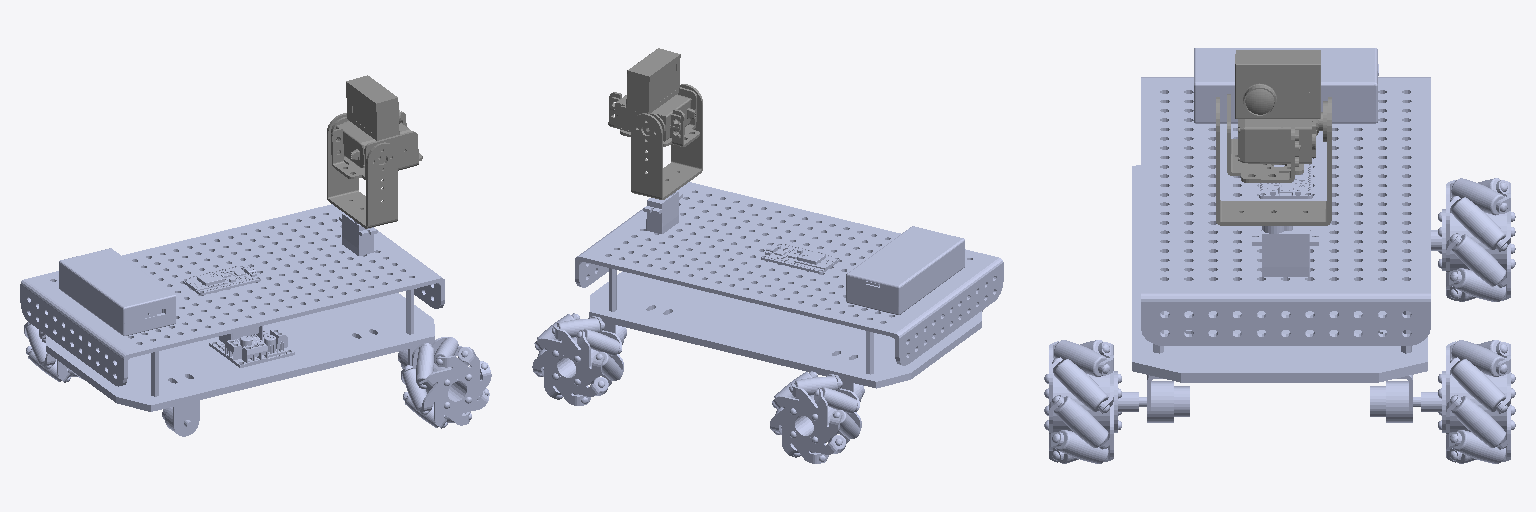
The robot description file, URDF, robot "smartcar":
<?xml version="1.0" encoding="utf-8"?>
<!-- This URDF was automatically created by SolidWorks to URDF Exporter! Originally created by [author] ([email redacted]) 
     Commit Version: 1.6.0-1-g15f4949  Build Version: 1.6.7594.29634
     For more information, please see http://wiki.ros.org/sw_urdf_exporter -->
<robot
  name="smartcar">
  <link
    name="base_link">
    <inertial>
      <origin
        xyz="0.01909081958634 0.000138578543074645 -0.0198961908372436"
        rpy="0 0 0" />
      <mass
        value="0.363518554164245" />
      <inertia
        ixx="0.000523354837271544"
        ixy="-4.94566574155405E-08"
        ixz="6.40523865269719E-08"
        iyy="0.00174036119906818"
        iyz="-7.69824443099418E-07"
        izz="0.00224742456343077" />
    </inertial>
    <visual>
      <origin
        xyz="0 0 0"
        rpy="0 0 0" />
      <geometry>
        <mesh
          filename="package://smartcar/meshes/base_link.STL" />
      </geometry>
      <material
        name="">
        <color
          rgba="0.792156862745098 0.819607843137255 0.933333333333333 1" />
      </material>
    </visual>
    <collision>
      <origin
        xyz="0 0 0"
        rpy="0 0 0" />
      <geometry>
        <mesh
          filename="package://smartcar/meshes/base_link.STL" />
      </geometry>
    </collision>
  </link>
  <link
    name="wheel1">
    <inertial>
      <origin
        xyz="-1.17410207655377E-05 -0.0270188386181104 1.38138537711524E-05"
        rpy="0 0 0" />
      <mass
        value="0.0507320425148898" />
      <inertia
        ixx="5.40982767839917E-06"
        ixy="-9.34857373264211E-21"
        ixz="7.78712998536137E-22"
        iyy="6.63497541199847E-06"
        iyz="3.01891529048928E-20"
        izz="5.40982767839917E-06" />
    </inertial>
    <visual>
      <origin
        xyz="0 0 0"
        rpy="0 0 0" />
      <geometry>
        <mesh
          filename="package://smartcar/meshes/wheel1.STL" />
      </geometry>
      <material
        name="">
        <color
          rgba="0.792156862745098 0.819607843137255 0.933333333333333 1" />
      </material>
    </visual>
    <collision>
      <origin
        xyz="0 0 0"
        rpy="0 0 0" />
      <geometry>
        <mesh
          filename="package://smartcar/meshes/wheel1.STL" />
      </geometry>
    </collision>
  </link>
  <joint
    name="joint1"
    type="continuous">
    <origin
      xyz="0.13047 -0.068471 -0.057855"
      rpy="0 0 0" />
    <parent
      link="base_link" />
    <child
      link="wheel1" />
    <axis
      xyz="0 -1 0" />
    <limit
      effort="100"
      velocity="100" />
  </joint>
  <link
    name="wheel2">
    <inertial>
      <origin
        xyz="-1.174102076551E-05 -0.0270188386181103 1.38138537711177E-05"
        rpy="0 0 0" />
      <mass
        value="0.0507320425148897" />
      <inertia
        ixx="5.40982767839918E-06"
        ixy="-9.6873033397707E-21"
        ixz="-1.1161603375027E-21"
        iyy="6.63497541199847E-06"
        iyz="2.89904715660197E-20"
        izz="5.40982767839918E-06" />
    </inertial>
    <visual>
      <origin
        xyz="0 0 0"
        rpy="0 0 0" />
      <geometry>
        <mesh
          filename="package://smartcar/meshes/wheel2.STL" />
      </geometry>
      <material
        name="">
        <color
          rgba="0.792156862745098 0.819607843137255 0.933333333333333 1" />
      </material>
    </visual>
    <collision>
      <origin
        xyz="0 0 0"
        rpy="0 0 0" />
      <geometry>
        <mesh
          filename="package://smartcar/meshes/wheel2.STL" />
      </geometry>
    </collision>
  </link>
  <joint
    name="joint2"
    type="continuous">
    <origin
      xyz="-0.054526 -0.068471 -0.057855"
      rpy="0 0 0" />
    <parent
      link="base_link" />
    <child
      link="wheel2" />
    <axis
      xyz="0 -1 0" />
    <limit
      effort="100"
      velocity="100" />
  </joint>
  <link
    name="wheel3">
    <inertial>
      <origin
        xyz="-1.17410207648994E-05 0.0270188386181099 -1.38138537708818E-05"
        rpy="0 0 0" />
      <mass
        value="0.050732042514893" />
      <inertia
        ixx="5.40982767839955E-06"
        ixy="-2.08155940681584E-21"
        ixz="1.04224757181609E-21"
        iyy="6.63497541199869E-06"
        iyz="1.79926485988493E-19"
        izz="5.40982767839939E-06" />
    </inertial>
    <visual>
      <origin
        xyz="0 0 0"
        rpy="0 0 0" />
      <geometry>
        <mesh
          filename="package://smartcar/meshes/wheel3.STL" />
      </geometry>
      <material
        name="">
        <color
          rgba="0.792156862745098 0.819607843137255 0.933333333333333 1" />
      </material>
    </visual>
    <collision>
      <origin
        xyz="0 0 0"
        rpy="0 0 0" />
      <geometry>
        <mesh
          filename="package://smartcar/meshes/wheel3.STL" />
      </geometry>
    </collision>
  </link>
  <joint
    name="joint3"
    type="continuous">
    <origin
      xyz="0.13044 0.068292 -0.057855"
      rpy="0 0 0" />
    <parent
      link="base_link" />
    <child
      link="wheel3" />
    <axis
      xyz="0 -1 0" />
    <limit
      effort="100"
      velocity="100" />
  </joint>
  <link
    name="wheel4">
    <inertial>
      <origin
        xyz="-1.17410207665231E-05 0.0270188386181106 -1.38138537707291E-05"
        rpy="0 0 0" />
      <mass
        value="0.0507320425148913" />
      <inertia
        ixx="5.40982767839931E-06"
        ixy="-5.24117673499207E-20"
        ixz="-3.55592831691866E-20"
        iyy="6.63497541199857E-06"
        iyz="-2.84171492564633E-20"
        izz="5.40982767839932E-06" />
    </inertial>
    <visual>
      <origin
        xyz="0 0 0"
        rpy="0 0 0" />
      <geometry>
        <mesh
          filename="package://smartcar/meshes/wheel4.STL" />
      </geometry>
      <material
        name="">
        <color
          rgba="0.792156862745098 0.819607843137255 0.933333333333333 1" />
      </material>
    </visual>
    <collision>
      <origin
        xyz="0 0 0"
        rpy="0 0 0" />
      <geometry>
        <mesh
          filename="package://smartcar/meshes/wheel4.STL" />
      </geometry>
    </collision>
  </link>
  <joint
    name="joint4"
    type="continuous">
    <origin
      xyz="-0.05456 0.068292 -0.057855"
      rpy="0 0 0" />
    <parent
      link="base_link" />
    <child
      link="wheel4" />
    <axis
      xyz="0 -1 0" />
    <limit
      effort="100"
      velocity="100" />
  </joint>
  <link
    name="cam">
    <inertial>
      <origin
        xyz="0.00766255702558354 0.000930594777554057 0.0572603206533005"
        rpy="0 0 0" />
      <mass
        value="0.0648828817109476" />
      <inertia
        ixx="1.7184860061111E-05"
        ixy="3.53249816368273E-08"
        ixz="-1.128644263597E-07"
        iyy="1.19382813682083E-05"
        iyz="1.74039573786558E-07"
        izz="1.81187109637583E-05" />
    </inertial>
    <visual>
      <origin
        xyz="0 0 0"
        rpy="0 0 0" />
      <geometry>
        <mesh
          filename="package://smartcar/meshes/cam.STL" />
      </geometry>
      <material
        name="">
        <color
          rgba="0.627450980392157 0.627450980392157 0.627450980392157 1" />
      </material>
    </visual>
    <collision>
      <origin
        xyz="0 0 0"
        rpy="0 0 0" />
      <geometry>
        <mesh
          filename="package://smartcar/meshes/cam.STL" />
      </geometry>
    </collision>
  </link>
  <joint
    name="joint5"
    type="fixed">
    <origin
      xyz="0.1185 -0.0031018 0.032378"
      rpy="0 0.017482 0" />
    <parent
      link="base_link" />
    <child
      link="cam" />
    <axis
      xyz="0 0 0" />
  </joint>
<gazebo reference="base_link">
    <material>Gazebo/Yellow</material>
</gazebo>
<gazebo reference="cam">
    <material>Gazebo/Blue</material>
</gazebo>
<gazebo reference="wheel1">
    <material>Gazebo/Black</material>
</gazebo>
<gazebo reference="wheel2">
    <material>Gazebo/Black</material>
</gazebo>
<gazebo reference="wheel3">
    <material>Gazebo/Black</material>
</gazebo>
<gazebo reference="wheel4">
    <material>Gazebo/Black</material>
</gazebo>

<gazebo>
    <plugin name="object_controller" filename="libgazebo_ros_planar_move.so">
      <commandTopic>cmd_vel</commandTopic>
      <odometryTopic>odom</odometryTopic>
      <odometryFrame>odom</odometryFrame>
      <odometryRate>20.0</odometryRate>
      <robotBaseFrame>base_link</robotBaseFrame>
    </plugin>
</gazebo>
</robot>

--- What the picture shows (computed from the rendered views, not written in the file) ---
Views: 3 orthographic renders of the robot side by side, from view 1: azimuth 30°, elevation 25°; view 2: azimuth 150°, elevation 25°; view 3: azimuth 270°, elevation 25°.
Robot: smartcar — 6 links, 5 joints (4 continuous, 1 fixed); root link base_link; default pose: all joints at 0.
Links seen in each view (by area): view 1: base_link, cam, wheel1, wheel4; view 2: base_link, cam, wheel3, wheel4; view 3: base_link, cam, wheel3, wheel1, wheel4.
Link boxes in pixels (left/top/right/bottom): base_link: left=20, top=204, right=444, bottom=436; cam: left=327, top=75, right=422, bottom=228; wheel1: left=401, top=337, right=491, bottom=428; wheel4: left=24, top=322, right=83, bottom=382; base_link: left=575, top=182, right=1003, bottom=401; cam: left=608, top=48, right=702, bottom=199; wheel3: left=532, top=313, right=623, bottom=405; wheel4: left=770, top=371, right=861, bottom=463; base_link: left=1132, top=48, right=1430, bottom=422; cam: left=1216, top=50, right=1331, bottom=225; wheel3: left=1421, top=340, right=1515, bottom=463; wheel1: left=1044, top=340, right=1138, bottom=463; wheel4: left=1431, top=178, right=1515, bottom=301.
Bounding box of the posed robot: 0.2658 × 0.2278 × 0.212 m (x, y, z).
5 mesh visuals loaded from 6 distinct referenced files (5 binary STL); not drawn: 1 (reference not matched to a file when rendering).